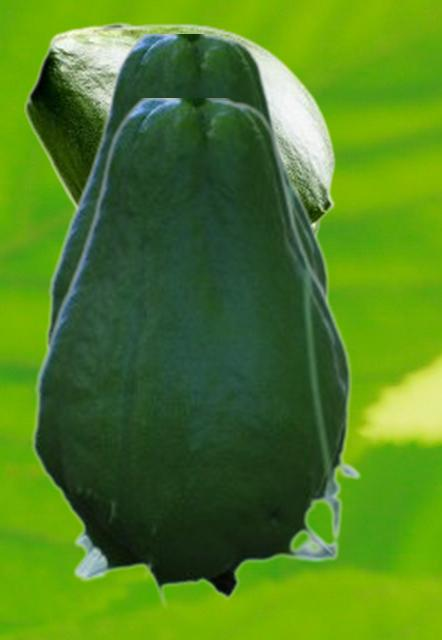sayote: (31, 98, 361, 608), (45, 34, 330, 343), (24, 22, 335, 238)
